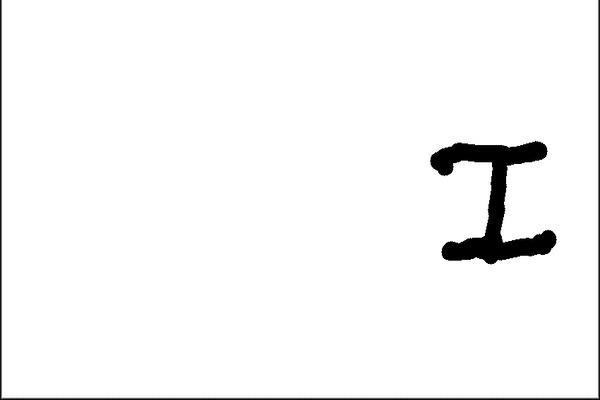i: (422, 121, 577, 278)
